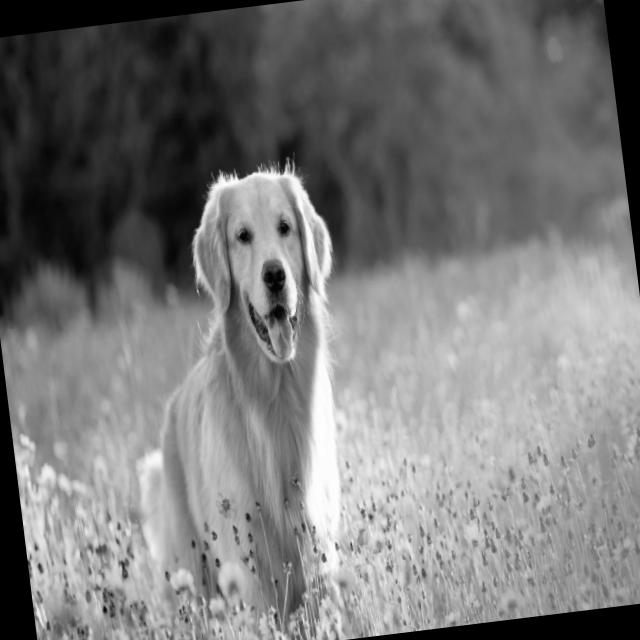dogs: (99, 160, 377, 634)
